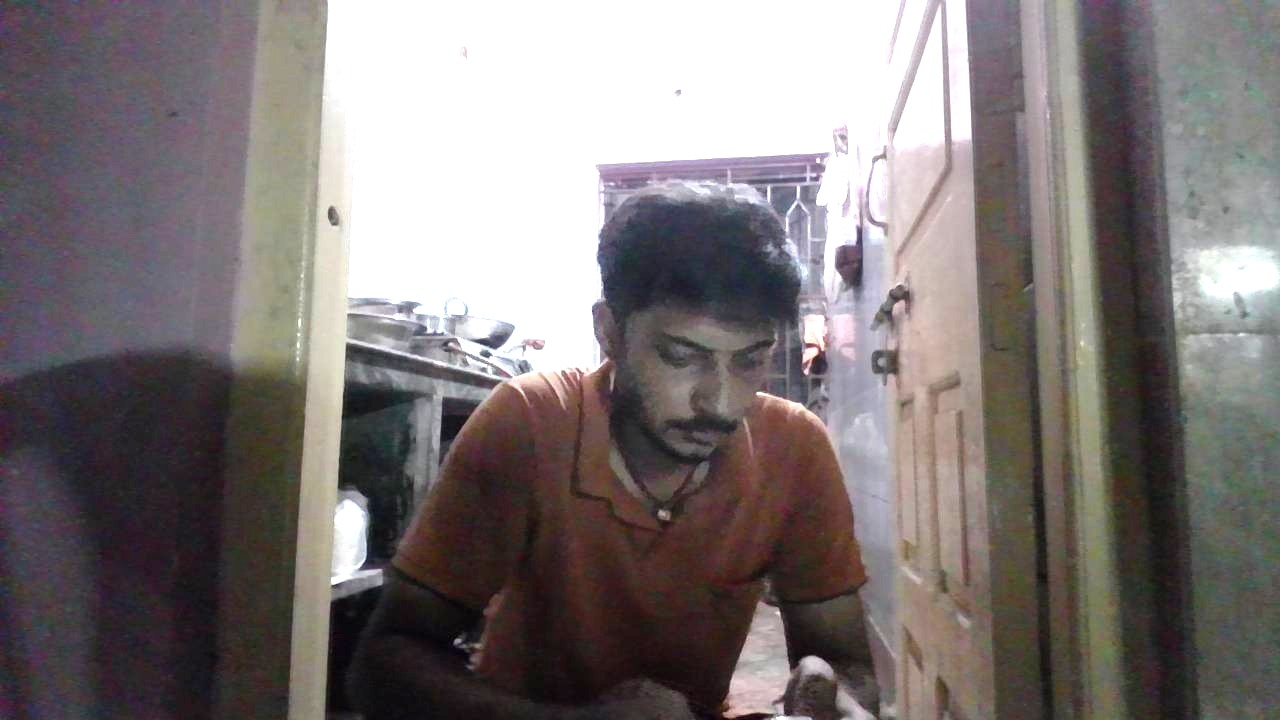red_box: (720, 407, 865, 583), (478, 391, 576, 468), (580, 449, 655, 526)
